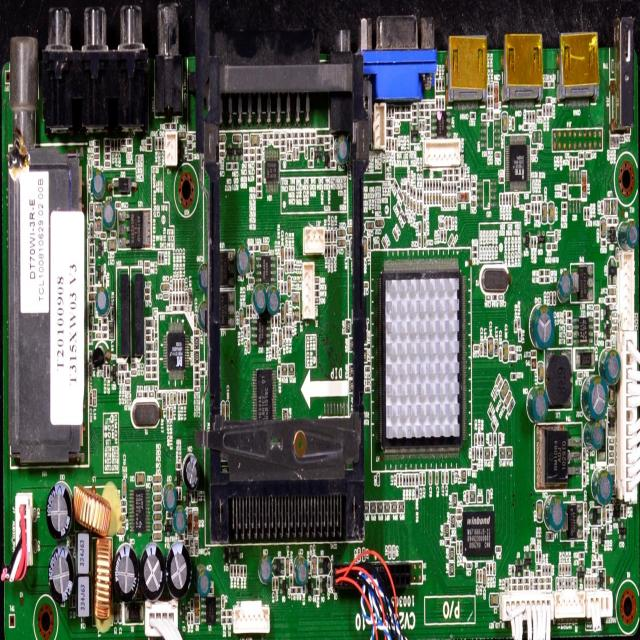Capacitor Jumper: (585, 378, 604, 418), (594, 468, 611, 506), (544, 498, 563, 531), (620, 221, 639, 250), (602, 350, 619, 382), (584, 423, 602, 448), (336, 137, 350, 162), (599, 217, 607, 240), (501, 110, 508, 132), (538, 362, 544, 386), (548, 202, 554, 224), (542, 202, 548, 224), (108, 239, 117, 253), (532, 131, 542, 143), (502, 340, 508, 360), (608, 384, 614, 404), (135, 473, 145, 485), (489, 594, 499, 606), (250, 134, 260, 145), (153, 512, 163, 523), (238, 310, 244, 328), (192, 312, 198, 329), (488, 336, 493, 356), (122, 480, 127, 498), (250, 252, 254, 274), (393, 228, 399, 242), (160, 283, 169, 292), (153, 483, 162, 492), (365, 222, 375, 230), (287, 276, 291, 296), (501, 378, 505, 398), (154, 502, 162, 512), (118, 526, 126, 536), (154, 530, 162, 540), (465, 560, 473, 570), (482, 569, 487, 585), (281, 303, 285, 322), (338, 229, 347, 237), (153, 474, 161, 483), (154, 521, 162, 530), (286, 557, 290, 575), (434, 472, 439, 486), (233, 135, 241, 143), (126, 146, 134, 154), (376, 219, 384, 227), (261, 244, 269, 252), (103, 364, 107, 380), (476, 568, 480, 584), (144, 266, 151, 275), (144, 285, 151, 294), (394, 138, 398, 153), (498, 346, 502, 361), (166, 407, 170, 422), (364, 239, 367, 258), (281, 247, 284, 266), (600, 200, 604, 214), (347, 227, 354, 235), (418, 234, 422, 248), (337, 239, 345, 246), (616, 248, 620, 262), (179, 280, 183, 294), (182, 280, 186, 294), (608, 288, 616, 295), (144, 294, 152, 301), (154, 318, 158, 332), (282, 326, 286, 340), (95, 332, 102, 340), (152, 329, 156, 343), (145, 365, 153, 372), (364, 384, 371, 392), (506, 391, 510, 405), (376, 472, 380, 486), (154, 494, 162, 501), (392, 545, 396, 559), (388, 546, 392, 560), (279, 330, 282, 348), (608, 443, 614, 452), (388, 138, 392, 151), (423, 192, 427, 205), (169, 294, 173, 307), (594, 332, 598, 345), (396, 474, 400, 487), (486, 490, 490, 503), (470, 200, 477, 207), (100, 232, 107, 239), (144, 261, 151, 268), (611, 325, 618, 332), (508, 344, 515, 351), (118, 514, 125, 521), (523, 584, 530, 591), (418, 119, 422, 131), (394, 126, 400, 134), (218, 135, 226, 141), (402, 211, 406, 223), (443, 230, 447, 242), (284, 261, 288, 273), (363, 280, 369, 288), (175, 279, 179, 291), (593, 305, 601, 311), (612, 311, 618, 319), (480, 342, 483, 358), (274, 346, 278, 358), (531, 349, 537, 357), (125, 377, 131, 385), (194, 385, 200, 393), (474, 435, 478, 447), (362, 547, 365, 563), (508, 578, 512, 590), (539, 584, 545, 592), (152, 358, 157, 367), (170, 391, 173, 406), (493, 561, 496, 576), (399, 191, 403, 202), (429, 472, 433, 483), (422, 473, 426, 484), (305, 146, 308, 160), (219, 150, 226, 156), (513, 193, 516, 207), (193, 328, 200, 334), (576, 372, 583, 378), (166, 392, 169, 406), (608, 438, 615, 444), (608, 458, 614, 465), (466, 490, 469, 504), (357, 548, 360, 562), (494, 153, 502, 158), (447, 198, 451, 208), (383, 238, 387, 248), (137, 390, 142, 398), (456, 542, 460, 552), (546, 576, 551, 584), (388, 105, 391, 118), (429, 192, 432, 205), (439, 193, 442, 206), (451, 195, 454, 208), (448, 234, 451, 247), (472, 448, 475, 461), (479, 571, 482, 584), (512, 118, 515, 130), (425, 132, 431, 138), (249, 148, 255, 154), (531, 149, 537, 155), (280, 153, 286, 159), (569, 157, 572, 169), (426, 192, 429, 204), (442, 196, 445, 208), (407, 196, 410, 208), (454, 196, 457, 208), (445, 216, 448, 228), (448, 216, 451, 228), (439, 222, 445, 228), (368, 238, 371, 250), (248, 278, 254, 284), (173, 280, 176, 292), (162, 294, 168, 300), (553, 293, 556, 305), (286, 302, 289, 314), (612, 320, 618, 326), (151, 352, 157, 358), (130, 363, 136, 369), (146, 373, 152, 379), (498, 379, 502, 388), (148, 391, 154, 397), (442, 472, 445, 484), (588, 577, 591, 589), (585, 577, 588, 589), (591, 578, 594, 590), (574, 578, 577, 590), (556, 578, 559, 590), (571, 578, 574, 590), (517, 584, 523, 590), (474, 345, 479, 352), (608, 453, 615, 458), (457, 514, 462, 521), (293, 148, 296, 159), (155, 339, 158, 350), (583, 448, 586, 459), (562, 566, 565, 577), (494, 113, 500, 118), (274, 140, 279, 146), (243, 142, 249, 147), (271, 316, 274, 326), (364, 366, 370, 371), (131, 370, 136, 376), (456, 508, 462, 513), (460, 541, 462, 556), (546, 584, 551, 590), (331, 244, 333, 258), (248, 323, 250, 337), (248, 339, 250, 353), (446, 471, 448, 485), (422, 119, 424, 132), (405, 192, 407, 205), (331, 230, 333, 243), (278, 269, 280, 282), (550, 292, 552, 305), (452, 470, 454, 483), (420, 473, 422, 486), (400, 474, 402, 487), (374, 243, 379, 248), (287, 140, 289, 152), (94, 153, 100, 157), (410, 198, 412, 210), (414, 202, 416, 214), (417, 202, 419, 214), (285, 248, 287, 260), (278, 282, 280, 294), (278, 315, 280, 327), (530, 576, 532, 588), (562, 578, 564, 590), (436, 193, 438, 204), (433, 194, 435, 205), (445, 197, 447, 208), (496, 374, 498, 385), (624, 506, 626, 517), (420, 204, 422, 214), (424, 223, 426, 233), (424, 236, 426, 246), (272, 334, 274, 344), (496, 546, 501, 550), (540, 579, 545, 583)
Connector: (7, 32, 89, 458), (41, 5, 146, 127), (362, 13, 437, 108), (151, 10, 185, 130), (445, 33, 485, 114), (501, 21, 544, 95), (556, 31, 600, 102), (230, 605, 268, 628)
IC: (371, 253, 470, 467), (537, 424, 584, 487), (160, 316, 193, 390), (504, 134, 531, 193), (462, 512, 494, 560), (132, 265, 147, 363), (118, 208, 152, 250), (252, 367, 276, 420), (118, 269, 131, 362), (570, 263, 595, 302), (129, 486, 150, 532), (564, 502, 583, 541), (200, 595, 220, 627), (265, 153, 279, 192), (480, 178, 496, 211), (432, 112, 451, 138), (481, 122, 500, 148), (576, 316, 592, 346), (569, 172, 581, 211), (607, 227, 617, 242)
Resistor Jumper: (282, 363, 288, 377), (126, 138, 134, 148), (288, 363, 294, 376), (194, 370, 200, 382), (253, 243, 260, 253), (277, 364, 281, 380), (600, 239, 607, 248), (120, 506, 127, 515), (280, 130, 286, 140), (246, 306, 250, 320), (101, 316, 108, 324), (605, 340, 612, 348), (146, 344, 154, 351), (490, 448, 494, 462), (175, 462, 182, 470), (120, 498, 127, 506), (536, 108, 542, 117), (597, 559, 603, 568), (534, 203, 538, 216), (583, 207, 587, 220), (440, 230, 444, 243), (489, 409, 493, 422), (488, 433, 492, 446), (415, 486, 419, 499), (584, 502, 588, 515), (606, 509, 610, 522), (230, 564, 234, 577), (243, 565, 247, 578), (604, 298, 611, 305), (145, 357, 152, 364), (477, 495, 484, 502), (395, 113, 401, 121), (262, 132, 268, 140), (94, 147, 100, 155), (310, 147, 314, 159), (308, 160, 314, 168), (256, 161, 262, 169), (226, 163, 232, 171), (460, 166, 464, 178), (498, 176, 504, 184), (418, 222, 422, 234), (552, 243, 558, 251), (248, 244, 254, 252), (290, 248, 294, 260), (287, 248, 291, 260), (545, 276, 551, 284), (178, 293, 182, 305), (184, 293, 188, 305), (172, 306, 178, 314), (274, 316, 278, 328), (98, 320, 102, 332), (102, 332, 108, 340), (518, 330, 522, 342), (89, 332, 93, 344), (88, 351, 92, 363), (124, 370, 130, 378), (118, 372, 122, 384), (194, 378, 200, 386), (170, 404, 173, 420), (499, 432, 502, 448), (620, 506, 624, 518), (450, 534, 456, 542), (591, 559, 597, 567), (568, 564, 572, 576), (590, 568, 598, 574), (511, 566, 515, 578), (316, 577, 320, 589), (594, 577, 598, 589), (314, 589, 320, 597), (541, 566, 546, 575), (582, 474, 586, 485), (439, 78, 442, 92), (412, 111, 418, 118), (310, 132, 317, 138), (268, 132, 274, 139), (578, 159, 584, 166), (232, 162, 238, 169), (561, 191, 568, 197), (525, 203, 531, 210), (158, 251, 161, 265), (179, 304, 185, 311), (594, 311, 600, 318), (514, 320, 517, 334), (243, 325, 246, 339), (146, 334, 152, 341), (151, 366, 158, 372), (173, 390, 176, 404), (481, 432, 484, 446), (493, 432, 496, 446), (476, 448, 479, 462), (444, 540, 451, 546), (530, 544, 536, 551), (536, 569, 542, 576), (511, 578, 518, 584), (533, 583, 539, 590), (412, 102, 417, 110), (420, 110, 425, 118), (94, 159, 99, 167), (454, 174, 459, 182), (546, 242, 551, 250), (274, 334, 278, 344), (579, 559, 584, 567), (548, 565, 552, 575), (442, 79, 445, 92), (391, 105, 394, 118), (616, 136, 619, 149), (433, 177, 436, 190), (587, 207, 590, 220), (277, 256, 280, 269), (517, 317, 520, 330), (416, 473, 419, 486), (308, 561, 311, 574), (290, 575, 293, 588), (487, 83, 490, 95), (546, 104, 549, 116), (470, 112, 476, 118), (529, 110, 532, 122), (412, 118, 418, 124), (292, 131, 298, 137), (286, 132, 292, 138), (293, 139, 299, 145), (262, 140, 268, 146), (280, 140, 286, 146), (298, 146, 304, 152), (280, 147, 286, 153), (243, 148, 249, 154), (105, 154, 111, 160), (249, 155, 255, 161), (243, 156, 249, 162), (442, 168, 448, 174), (256, 169, 262, 175), (464, 179, 467, 191), (401, 184, 407, 190), (256, 184, 262, 190), (257, 192, 263, 198), (562, 209, 568, 215), (527, 211, 530, 223), (612, 218, 618, 224), (531, 236, 534, 248), (89, 268, 95, 274), (539, 270, 545, 276), (539, 276, 545, 282), (284, 282, 287, 294), (314, 291, 320, 297), (102, 326, 108, 332), (200, 361, 206, 367), (194, 365, 200, 371), (121, 372, 124, 384), (156, 392, 162, 398), (180, 391, 183, 403), (472, 466, 478, 472), (583, 462, 586, 474), (409, 474, 412, 486), (403, 474, 406, 486), (607, 522, 610, 534), (578, 552, 584, 558), (559, 564, 562, 576), (486, 564, 489, 576), (233, 564, 236, 576), (517, 578, 523, 584), (559, 578, 562, 590), (505, 579, 508, 591), (221, 610, 227, 616), (188, 612, 191, 624), (190, 612, 193, 624), (430, 103, 435, 110), (419, 103, 424, 110), (405, 112, 410, 119), (287, 153, 292, 160), (472, 190, 477, 197), (537, 194, 542, 201), (531, 194, 536, 201), (611, 297, 616, 304), (145, 328, 152, 333), (510, 374, 517, 379), (524, 570, 529, 577), (524, 577, 529, 584), (227, 617, 232, 624), (543, 105, 546, 116), (487, 108, 490, 119), (526, 110, 529, 121), (158, 138, 161, 149), (296, 148, 299, 159), (411, 186, 414, 197), (413, 188, 416, 199), (161, 252, 164, 263), (291, 261, 294, 272), (536, 550, 539, 561), (237, 565, 240, 576), (240, 566, 243, 577), (608, 216, 612, 224), (146, 350, 150, 358), (490, 83, 492, 98), (487, 98, 490, 108), (491, 110, 494, 120), (274, 134, 279, 140), (325, 137, 330, 143), (305, 138, 310, 144), (330, 137, 333, 147), (613, 137, 616, 147), (257, 148, 262, 154), (331, 149, 334, 159), (448, 168, 453, 174), (454, 168, 459, 174), (442, 176, 448, 181), (257, 177, 262, 183), (426, 180, 429, 190), (436, 180, 439, 190), (395, 180, 398, 190), (407, 182, 410, 192), (562, 184, 567, 190), (448, 182, 451, 192), (445, 184, 448, 194), (561, 203, 567, 208), (538, 204, 541, 214), (534, 216, 540, 221), (90, 258, 95, 264), (545, 270, 550, 276), (315, 284, 320, 290), (182, 294, 185, 304), (93, 324, 98, 330), (286, 327, 289, 337), (289, 328, 292, 338), (200, 370, 206, 375), (152, 374, 158, 379), (125, 386, 131, 391), (493, 421, 496, 431), (412, 473, 414, 488), (545, 565, 548, 575), (565, 565, 568, 575), (533, 578, 539, 583), (565, 578, 568, 588), (290, 588, 296, 593), (222, 618, 227, 624), (400, 113, 404, 120), (334, 244, 336, 258), (90, 286, 94, 293), (176, 292, 178, 306), (184, 391, 186, 405), (480, 447, 482, 461), (290, 562, 292, 576), (276, 576, 278, 590), (454, 184, 457, 193), (576, 157, 578, 170), (430, 178, 432, 191), (510, 194, 512, 207), (328, 230, 330, 243), (90, 245, 92, 258), (328, 575, 330, 588), (406, 106, 411, 111), (425, 111, 430, 116), (311, 139, 316, 144), (325, 144, 330, 149), (594, 320, 599, 325), (491, 96, 493, 108), (290, 139, 292, 151), (257, 154, 261, 160), (330, 162, 336, 166), (472, 182, 476, 188), (442, 184, 445, 192), (416, 191, 419, 199), (506, 194, 508, 206), (424, 208, 426, 220), (334, 230, 336, 242), (281, 270, 283, 282), (90, 273, 92, 285), (289, 314, 291, 326), (594, 326, 600, 330), (143, 392, 147, 398), (539, 550, 541, 562), (536, 565, 542, 569), (568, 578, 570, 590), (512, 584, 516, 590), (296, 588, 302, 592), (424, 179, 426, 190), (439, 179, 441, 190), (500, 193, 502, 204), (328, 245, 330, 256), (288, 261, 290, 272), (173, 293, 175, 304), (478, 434, 480, 445), (490, 564, 492, 575), (426, 117, 429, 124), (482, 114, 486, 119), (300, 131, 304, 136), (421, 190, 423, 200), (503, 193, 505, 203), (532, 203, 534, 213), (534, 238, 536, 248), (281, 283, 283, 293), (286, 316, 288, 326), (272, 347, 274, 357), (406, 474, 408, 484), (584, 517, 586, 527), (227, 610, 232, 614), (305, 132, 311, 135), (426, 125, 430, 129), (300, 140, 304, 144), (451, 184, 453, 192), (448, 177, 453, 180)
Transistor: (590, 506, 602, 525), (608, 258, 616, 284), (598, 569, 606, 590), (618, 524, 626, 540), (523, 553, 532, 566), (324, 152, 330, 168), (524, 232, 530, 248), (516, 562, 524, 573), (577, 568, 585, 577), (234, 148, 242, 156), (538, 235, 546, 243), (226, 147, 233, 156), (315, 151, 322, 157)
